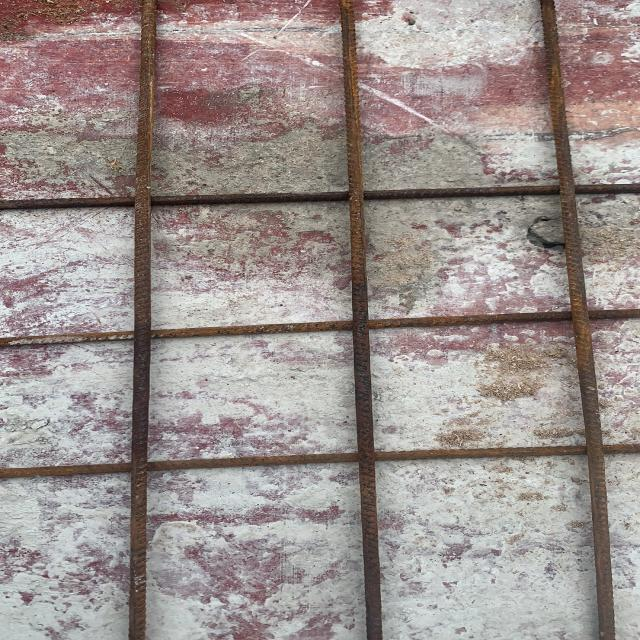ribbed bar: (538, 0, 619, 639), (335, 0, 383, 639), (0, 306, 639, 350), (0, 441, 639, 477), (122, 0, 157, 639), (0, 181, 639, 211)
